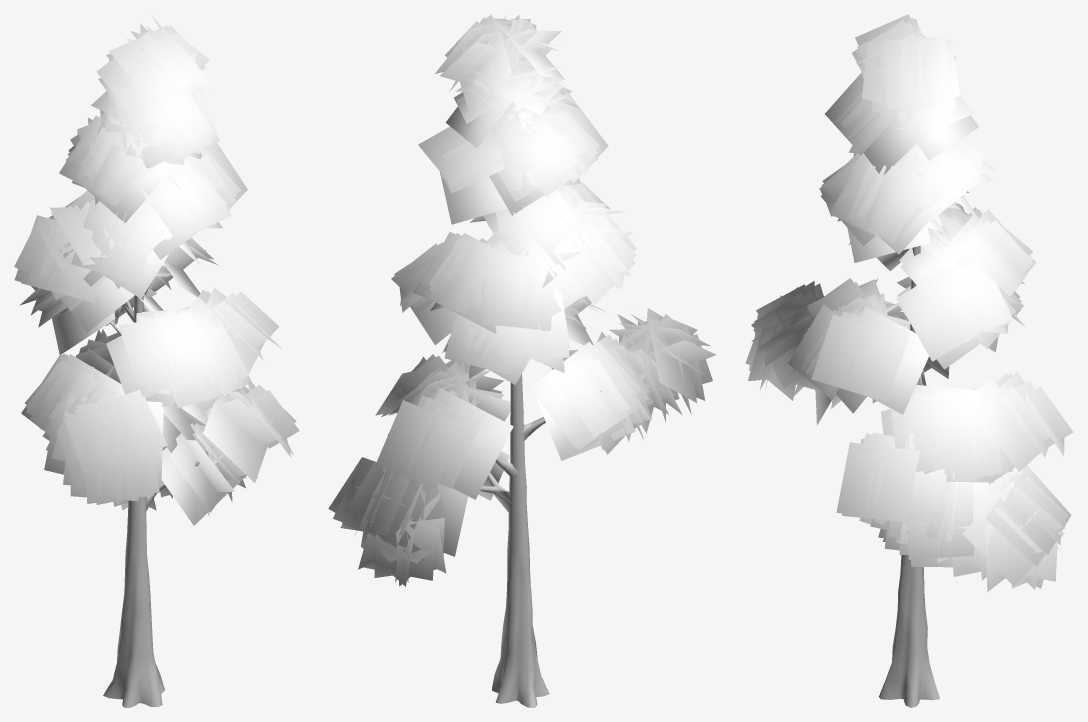
Rendered from pineTree_LOD1.fbx.
3 views of the same model, side by side, from view 1: azimuth 30°, elevation 25°; view 2: azimuth 150°, elevation 25°; view 3: azimuth 270°, elevation 25° (orthographic).
Visible parts, largest first — view 1: t_leaves02_1, _0; view 2: t_leaves02_1, _0; view 3: t_leaves02_1, _0.
Boxes of the visible parts, bbox=[...] form: t_leaves02_1: bbox=[14, 15, 299, 525]; _0: bbox=[103, 282, 212, 707]; t_leaves02_1: bbox=[328, 14, 716, 586]; _0: bbox=[480, 374, 600, 707]; t_leaves02_1: bbox=[745, 14, 1073, 591]; _0: bbox=[879, 245, 965, 707].
Bounding box in the file's own units: 2316 × 5431 × 2390.
